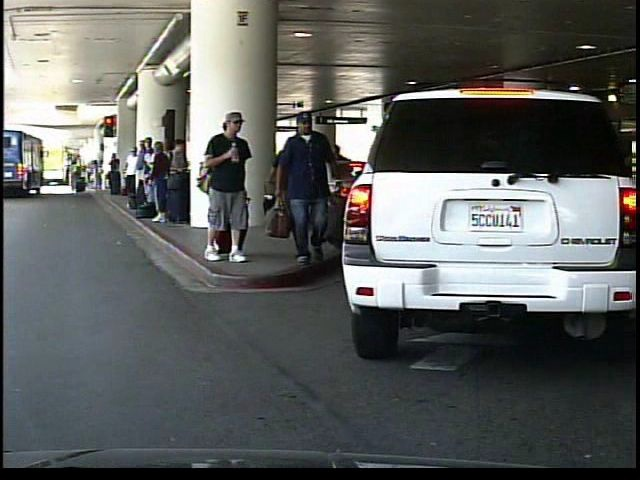person: (276, 102, 347, 268), (203, 108, 259, 264)
